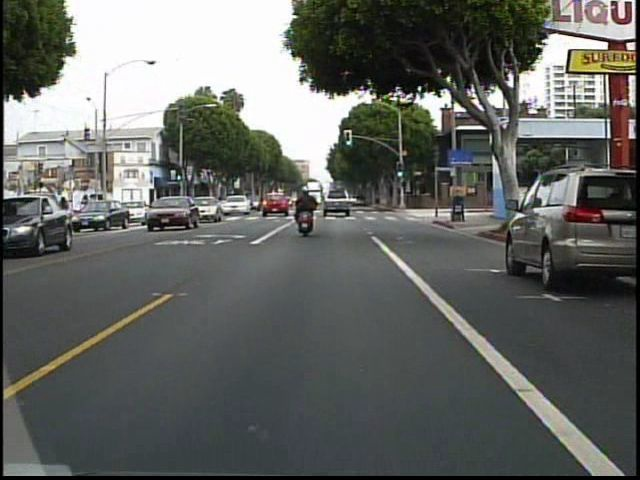person: (292, 183, 323, 238)
